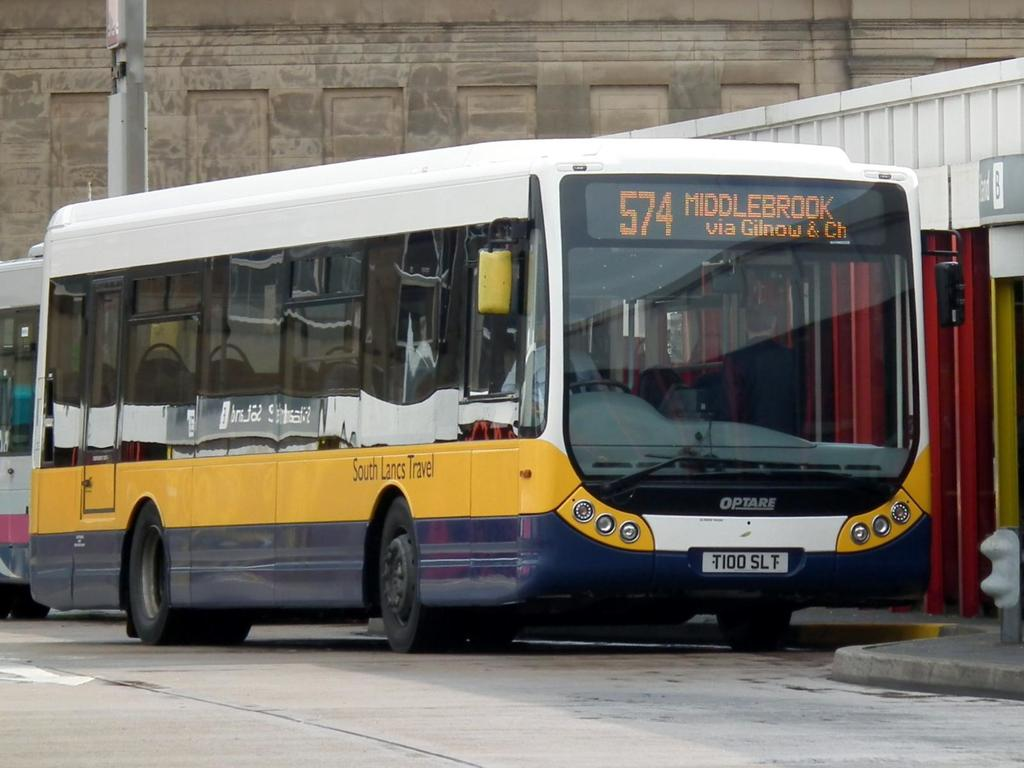Bus: (29, 139, 931, 653), (0, 256, 52, 619)
